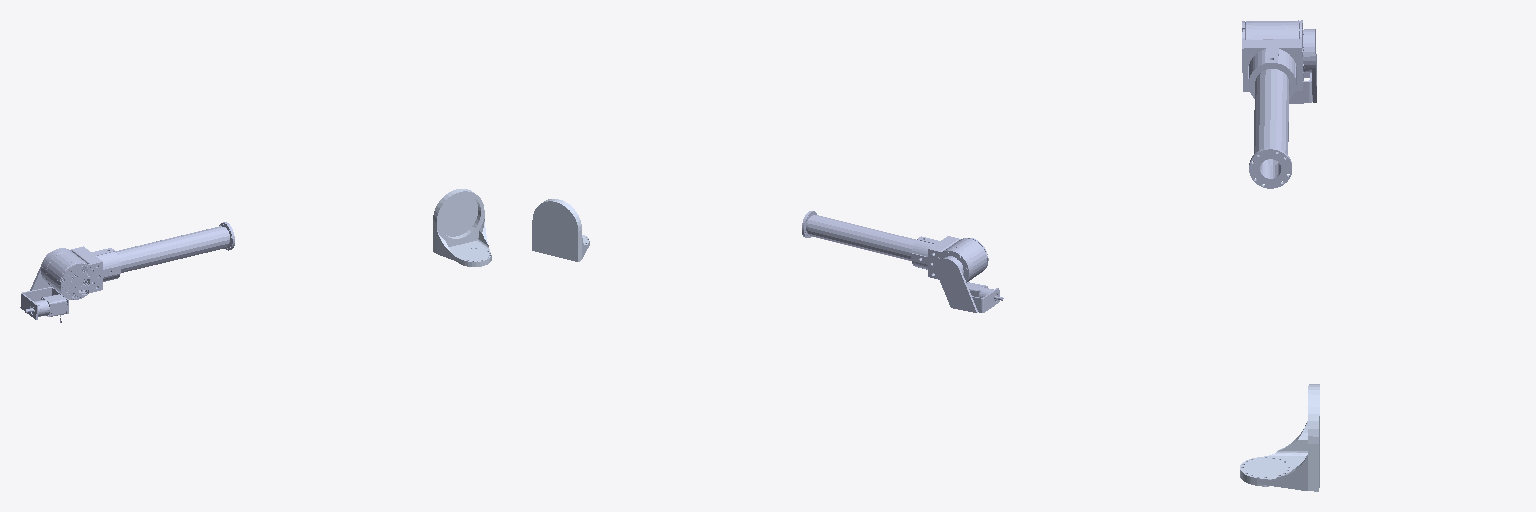
The robot description file, URDF, robot "Arm_Assembly_URDF.SLDASM":
<?xml version="1.0" encoding="utf-8"?>
<!-- This URDF was automatically created by SolidWorks to URDF Exporter! Originally created by [author] ([email redacted]) 
     Commit Version: 1.6.0-4-g7f85cfe  Build Version: 1.6.7995.38578
     For more information, please see http://wiki.ros.org/sw_urdf_exporter -->
<robot
  name="Arm_Assembly_URDF.SLDASM">
  <link
    name="base_link">
    <inertial>
      <origin
        xyz="-0.00079815 0.0029373 -1.9921E-05"
        rpy="0 0 0" />
      <mass
        value="0.3171" />
      <inertia
        ixx="0.0002369"
        ixy="2.2819E-07"
        ixz="-1.3738E-07"
        iyy="0.0003143"
        iyz="-1.8676E-07"
        izz="0.00023727" />
    </inertial>
    <visual>
      <origin
        xyz="0 0 0"
        rpy="0 0 0" />
      <geometry>
        <mesh
          filename="package://Arm_Assembly_URDF.SLDASM/meshes/base_link.STL" />
      </geometry>
      <material
        name="">
        <color
          rgba="0.79608 0.82353 0.93725 1" />
      </material>
    </visual>
    <collision>
      <origin
        xyz="0 0 0"
        rpy="0 0 0" />
      <geometry>
        <mesh
          filename="package://Arm_Assembly_URDF.SLDASM/meshes/base_link.STL" />
      </geometry>
    </collision>
  </link>
  <link
    name="Link_0">
    <inertial>
      <origin
        xyz="0.0396836517172742 0.028044773020265 -3.82136170766012E-07"
        rpy="0 0 0" />
      <mass
        value="0.332337507569089" />
      <inertia
        ixx="0.00056310492412858"
        ixy="-0.000127137119030391"
        ixz="-1.36690522654469E-09"
        iyy="0.00045356754918059"
        iyz="-4.10987974592266E-10"
        izz="0.000498509885756028" />
    </inertial>
    <visual>
      <origin
        xyz="0 0 0"
        rpy="0 0 0" />
      <geometry>
        <mesh
          filename="package://Arm_Assembly_URDF.SLDASM/meshes/Link_0.STL" />
      </geometry>
      <material
        name="">
        <color
          rgba="0.866666666666667 0.909803921568627 1 1" />
      </material>
    </visual>
    <collision>
      <origin
        xyz="0 0 0"
        rpy="0 0 0" />
      <geometry>
        <mesh
          filename="package://Arm_Assembly_URDF.SLDASM/meshes/Link_0.STL" />
      </geometry>
    </collision>
  </link>
  <joint
    name="Amanda"
    type="continuous">
    <origin
      xyz="-0.00082643 0 0.03375"
      rpy="1.5708 0 1.5625" />
    <parent
      link="base_link" />
    <child
      link="Link_0" />
    <axis
      xyz="0 1 0" />
    <limit
      lower="-2.7925"
      upper="3.1416"
      effort="50"
      velocity="0" />
  </joint>
  <link
    name="Link_1">
    <inertial>
      <origin
        xyz="-0.163681937832527 1.03264585993301E-06 -0.00531311701789006"
        rpy="0 0 0" />
      <mass
        value="1.29151589344042" />
      <inertia
        ixx="0.00152376236683335"
        ixy="2.48106625101311E-08"
        ixz="6.25960674686593E-06"
        iyy="0.00239011551546957"
        iyz="1.16628092452105E-08"
        izz="0.00232382943998219" />
    </inertial>
    <visual>
      <origin
        xyz="0 0 0"
        rpy="0 0 0" />
      <geometry>
        <mesh
          filename="package://Arm_Assembly_URDF.SLDASM/meshes/Link_1.STL" />
      </geometry>
      <material
        name="">
        <color
          rgba="0.796078431372549 0.823529411764706 0.937254901960784 1" />
      </material>
    </visual>
    <collision>
      <origin
        xyz="0 0 0"
        rpy="0 0 0" />
      <geometry>
        <mesh
          filename="package://Arm_Assembly_URDF.SLDASM/meshes/Link_1.STL" />
      </geometry>
    </collision>
  </link>
  <joint
    name="Sosuke"
    type="revolute">
    <origin
      xyz="0 0.063 0"
      rpy="1.5708 -1.5689 -1.5708" />
    <parent
      link="Link_0" />
    <child
      link="Link_1" />
    <axis
      xyz="0 0 1" />
    <limit
      lower="-1.5708"
      upper="3.1416"
      effort="100"
      velocity="0" />
  </joint>
  <link
    name="Link_2">
    <inertial>
      <origin
        xyz="-0.0413455097315701 0.0848736303439487 -0.0162070623410888"
        rpy="0 0 0" />
      <mass
        value="0.400208775561566" />
      <inertia
        ixx="0.000516359960182605"
        ixy="8.10737105875724E-05"
        ixz="4.08608177211858E-06"
        iyy="0.000311603180405403"
        iyz="-9.93705525806462E-06"
        izz="0.000596556815986802" />
    </inertial>
    <visual>
      <origin
        xyz="0 0 0"
        rpy="0 0 0" />
      <geometry>
        <mesh
          filename="package://Arm_Assembly_URDF.SLDASM/meshes/Link_2.STL" />
      </geometry>
      <material
        name="">
        <color
          rgba="0.796078431372549 0.823529411764706 0.937254901960784 1" />
      </material>
    </visual>
    <collision>
      <origin
        xyz="0 0 0"
        rpy="0 0 0" />
      <geometry>
        <mesh
          filename="package://Arm_Assembly_URDF.SLDASM/meshes/Link_2.STL" />
      </geometry>
    </collision>
  </link>
  <joint
    name="Nathan"
    type="revolute">
    <origin
      xyz="-0.396 0 0"
      rpy="-0.026701 0.01367 0.10983" />
    <parent
      link="Link_1" />
    <child
      link="Link_2" />
    <axis
      xyz="0.013669 0.026695 -0.99955" />
    <limit
      lower="-2.4784"
      upper="2.4784"
      effort="60"
      velocity="0" />
  </joint>
  <link
    name="Link_3">
    <inertial>
      <origin
        xyz="-0.266601889894523 0.0289010323616966 -0.000451481428345494"
        rpy="0 0 0" />
      <mass
        value="0.455178296555825" />
      <inertia
        ixx="0.000259297016882087"
        ixy="3.84297214360603E-05"
        ixz="5.06157955868465E-07"
        iyy="0.00060557830009397"
        iyz="-1.07704221118898E-07"
        izz="0.000608994304605117" />
    </inertial>
    <visual>
      <origin
        xyz="0 0 0"
        rpy="0 0 0" />
      <geometry>
        <mesh
          filename="package://Arm_Assembly_URDF.SLDASM/meshes/Link_3.STL" />
      </geometry>
      <material
        name="">
        <color
          rgba="0.796078431372549 0.823529411764706 0.937254901960784 1" />
      </material>
    </visual>
    <collision>
      <origin
        xyz="0 0 0"
        rpy="0 0 0" />
      <geometry>
        <mesh
          filename="package://Arm_Assembly_URDF.SLDASM/meshes/Link_3.STL" />
      </geometry>
    </collision>
  </link>
  <joint
    name="Henry"
    type="revolute">
    <origin
      xyz="-0.079846 0.10435 0.00019439"
      rpy="0.047996 -0.015976 -0.00026869" />
    <parent
      link="Link_2" />
    <child
      link="Link_3" />
    <axis
      xyz="0.99418 -0.10776 0" />
    <limit
      lower="-6.2832"
      upper="6.2832"
      effort="20"
      velocity="0" />
  </joint>
  <link
    name="Link_4">
    <inertial>
      <origin
        xyz="-0.0284700798374056 -0.0361453242959057 -0.0217343050502947"
        rpy="0 0 0" />
      <mass
        value="0.0974874985094937" />
      <inertia
        ixx="3.42006432725955E-05"
        ixy="-7.84532479587995E-06"
        ixz="-1.58670134888144E-06"
        iyy="4.53146096280742E-05"
        iyz="-1.3891169158584E-06"
        izz="6.3441057595053E-05" />
    </inertial>
    <visual>
      <origin
        xyz="0 0 0"
        rpy="0 0 0" />
      <geometry>
        <mesh
          filename="package://Arm_Assembly_URDF.SLDASM/meshes/Link_4.STL" />
      </geometry>
      <material
        name="">
        <color
          rgba="0.796078431372549 0.823529411764706 0.937254901960784 1" />
      </material>
    </visual>
    <collision>
      <origin
        xyz="0 0 0"
        rpy="0 0 0" />
      <geometry>
        <mesh
          filename="package://Arm_Assembly_URDF.SLDASM/meshes/Link_4.STL" />
      </geometry>
    </collision>
  </link>
  <joint
    name="Indy"
    type="continuous">
    <origin
      xyz="-0.32409 0.035127 0"
      rpy="0 0 -0.024891" />
    <parent
      link="Link_3" />
    <child
      link="Link_4" />
    <axis
      xyz="0 0 1" />
    <limit
      lower="-6.2832"
      upper="6.2832"
      effort="20"
      velocity="0" />
  </joint>
</robot>

--- What the picture shows (computed from the rendered views, not written in the file) ---
3 views of the same robot in one strip: view 1: azimuth 30°, elevation 25°; view 2: azimuth 150°, elevation 25°; view 3: azimuth 270°, elevation 25° (orthographic).
Robot: Arm_Assembly_URDF.SLDASM — 6 links, 5 joints (3 revolute, 2 continuous); root link base_link; default pose: every joint at zero.
Visible links, largest first — view 1: Link_3, Link_0, Link_4; view 2: Link_3, Link_0, Link_4; view 3: Link_3, Link_0, Link_4.
Boxes of the visible links, x1=… form: Link_3: x1=41, y1=222, x2=234, y2=299; Link_0: x1=433, y1=189, x2=491, y2=266; Link_4: x1=20, y1=252, x2=68, y2=322; Link_3: x1=802, y1=211, x2=988, y2=282; Link_0: x1=532, y1=199, x2=589, y2=261; Link_4: x1=936, y1=256, x2=1003, y2=312; Link_3: x1=1242, y1=20, x2=1304, y2=188; Link_0: x1=1240, y1=384, x2=1319, y2=491; Link_4: x1=1289, y1=29, x2=1316, y2=103.
Bounding box of the posed robot: 0.9469 × 0.0922 × 0.1945 m (x, y, z).
Meshes: 6 distinct files referenced, 3 mesh visuals loaded (3 binary STL); not drawn: 3 (reference not matched to a file when rendering).
